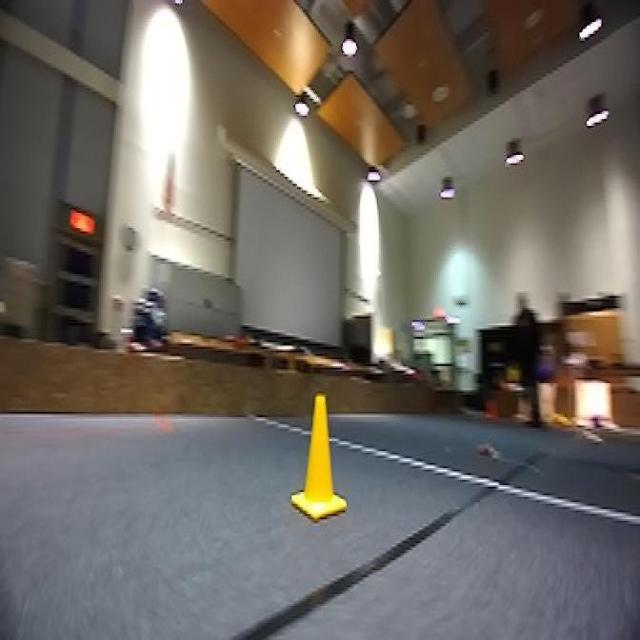frc_cone: (290, 392, 348, 524)
